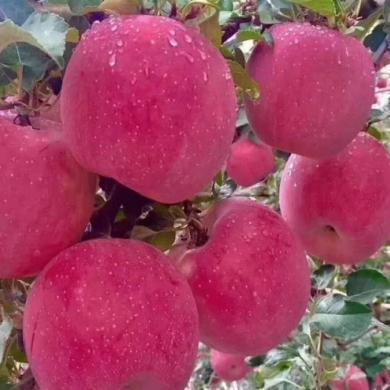apple: (59, 14, 235, 205), (22, 239, 197, 389), (170, 198, 311, 356), (247, 21, 376, 158)
